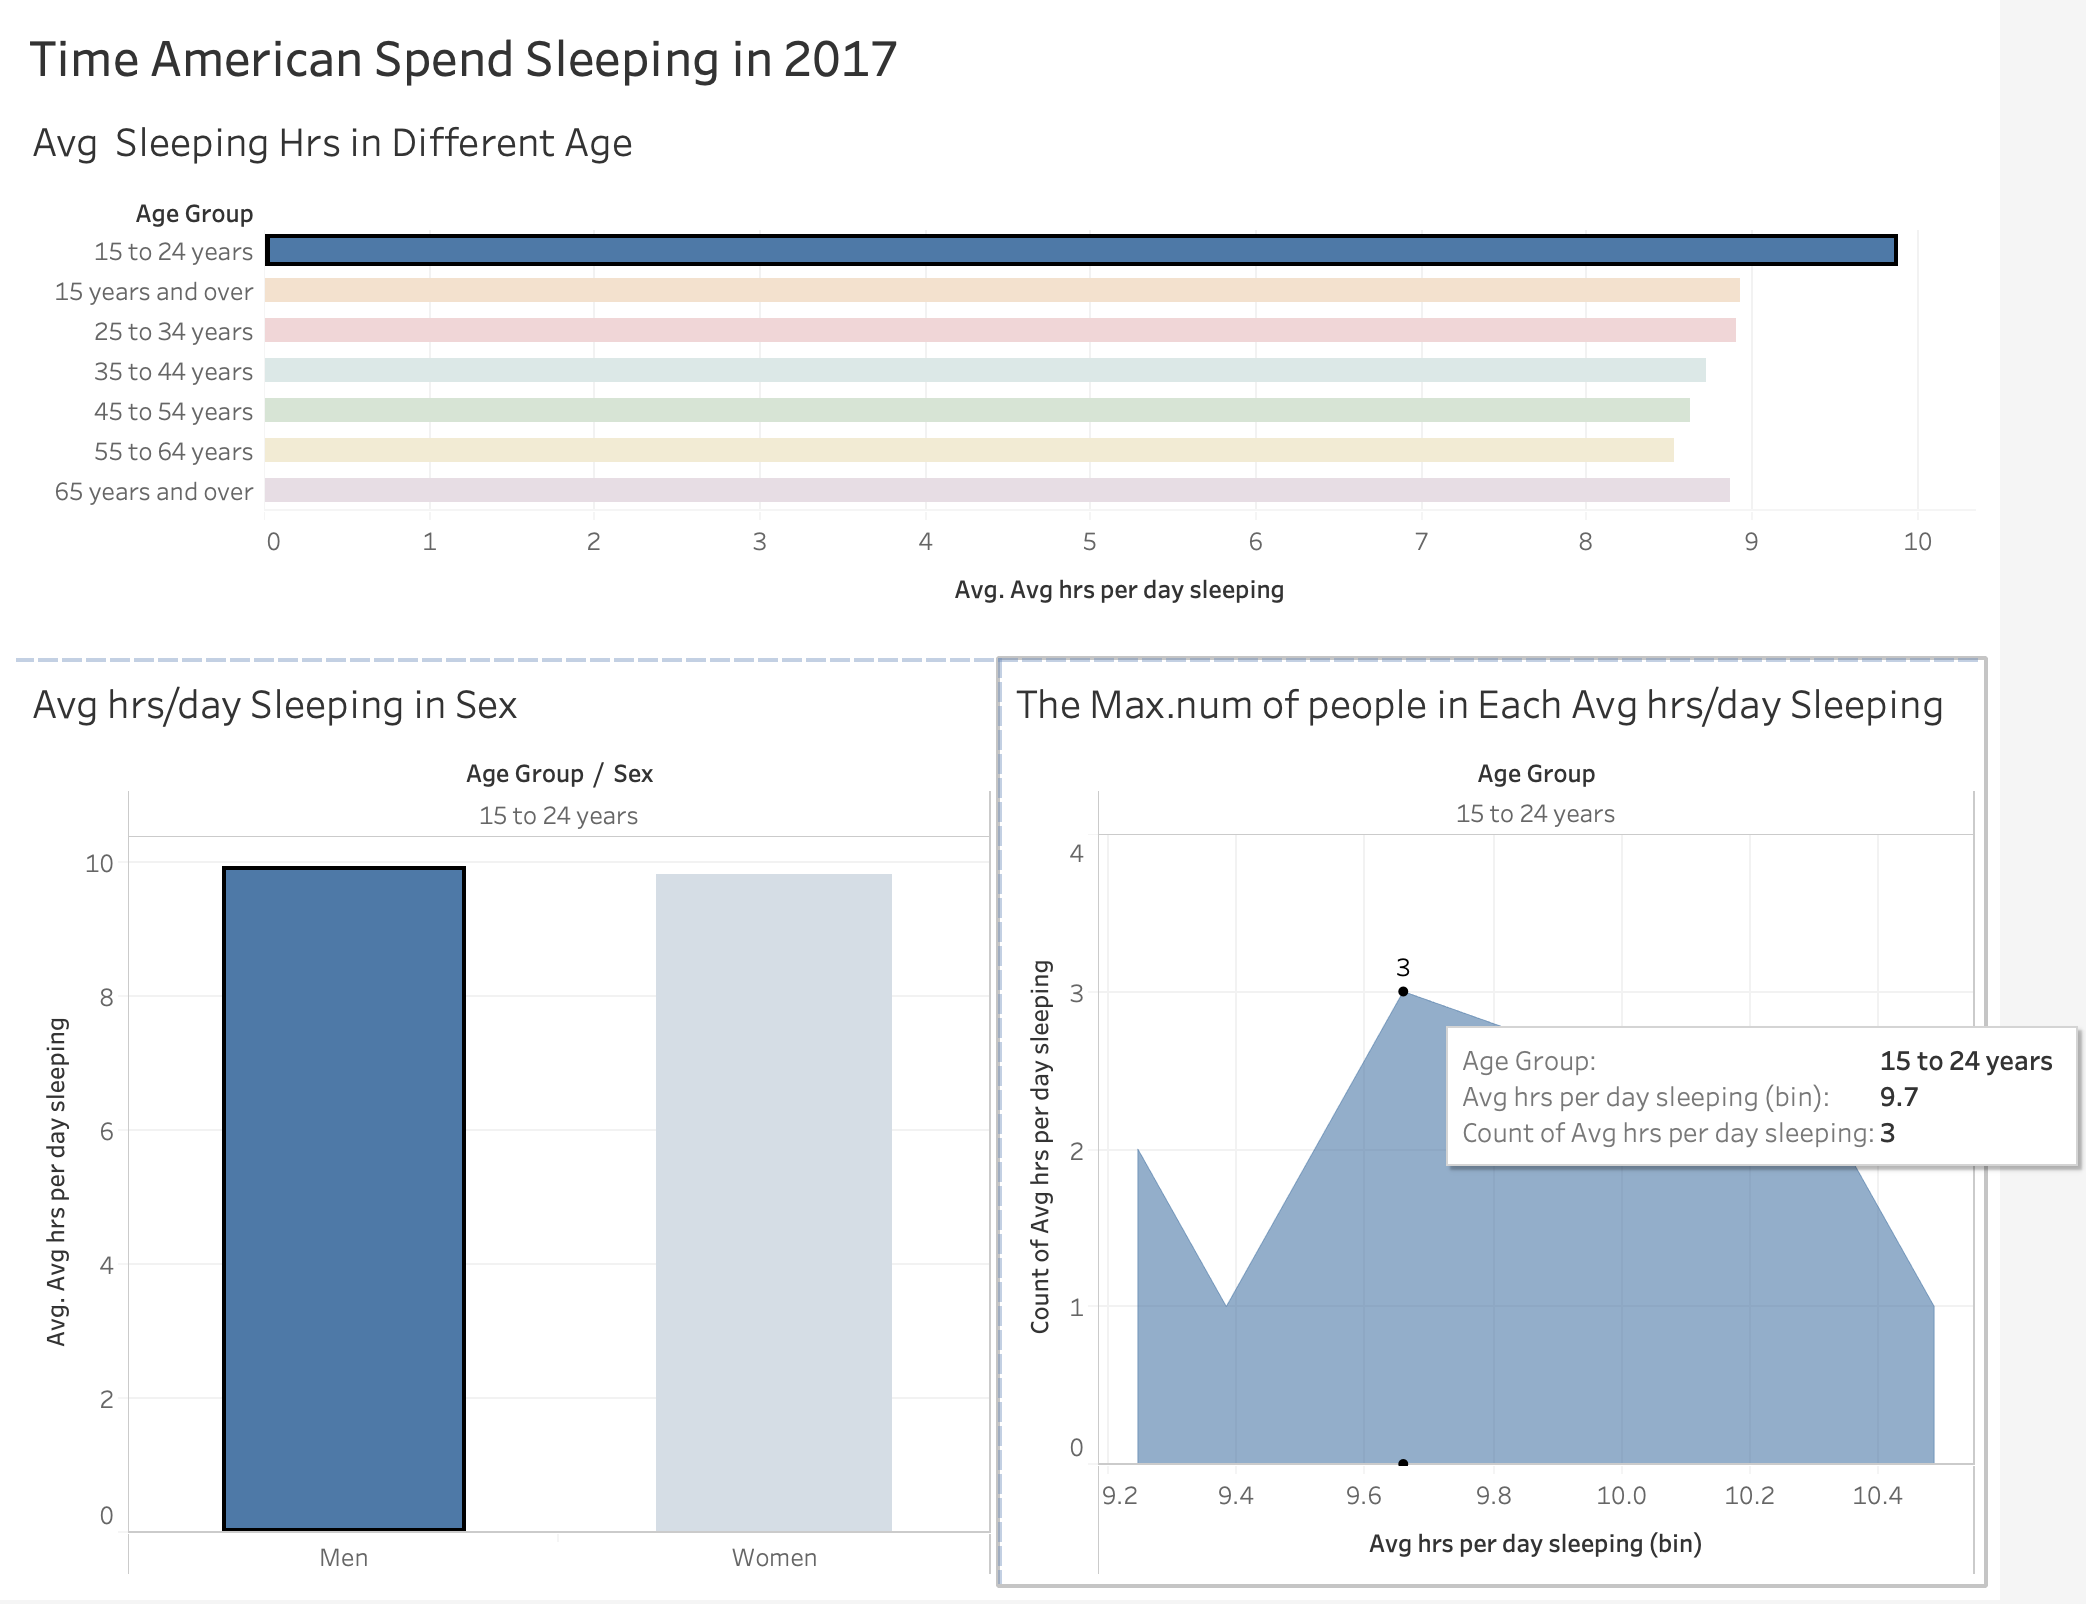

What the dashboard file says about the page in this screenshot:
{"tool":"tableau","page":{"name":"Dashboard 1","canvas":[1000,800],"ordinal":0},"visuals":[{"type":"worksheet","box":[0,0,1000,800]},{"type":"worksheet","param":"vert","box":[8,8,984,784]},{"type":"worksheet","box":[8,8,984,41]},{"type":"worksheet","param":"horz","box":[8,49,984,743]},{"type":"worksheet","param":"horz","box":[8,49,984,743]},{"type":"worksheet","param":"horz","box":[8,49,984,743]},{"type":"worksheet","param":"horz","box":[8,49,984,743]},{"type":"worksheet","param":"horz","box":[8,49,984,743]},{"type":"worksheet","box":[8,49,984,743]},{"type":"worksheet","title":"Sheet 2","mark":"Automatic","rows":["Age Group"],"cols":["Avg hrs per day sleeping"],"box":[8,49,984,281.4]},{"type":"worksheet","title":"Sheet 1","mark":"Bar","rows":["Avg hrs per day sleeping"],"cols":["Age Group","Sex"],"box":[8,330.4,492,461.6]},{"type":"worksheet","title":"Sheet 4","mark":"Area","rows":["Avg hrs per day sleeping"],"cols":["Age Group","Avg hrs per day sleeping (bin)"],"box":[500,330.4,492,461.6]}]}

Visuals, with their boxes on the page's 1000x800 design canvas (x1, y1, x2, y2). These are canvas units, not pixel positions in the 2086x1604 screenshot, which may show the page scaled, cropped or inside an application window:
worksheet: locate(0, 0, 1000, 800)
worksheet: locate(8, 8, 992, 792)
worksheet: locate(8, 8, 992, 49)
worksheet: locate(8, 49, 992, 792)
worksheet: locate(8, 49, 992, 792)
worksheet: locate(8, 49, 992, 792)
worksheet: locate(8, 49, 992, 792)
worksheet: locate(8, 49, 992, 792)
worksheet: locate(8, 49, 992, 792)
"Sheet 2" worksheet: locate(8, 49, 992, 330)
"Sheet 1" worksheet (Bar marks): locate(8, 330, 500, 792)
"Sheet 4" worksheet (Area marks): locate(500, 330, 992, 792)
